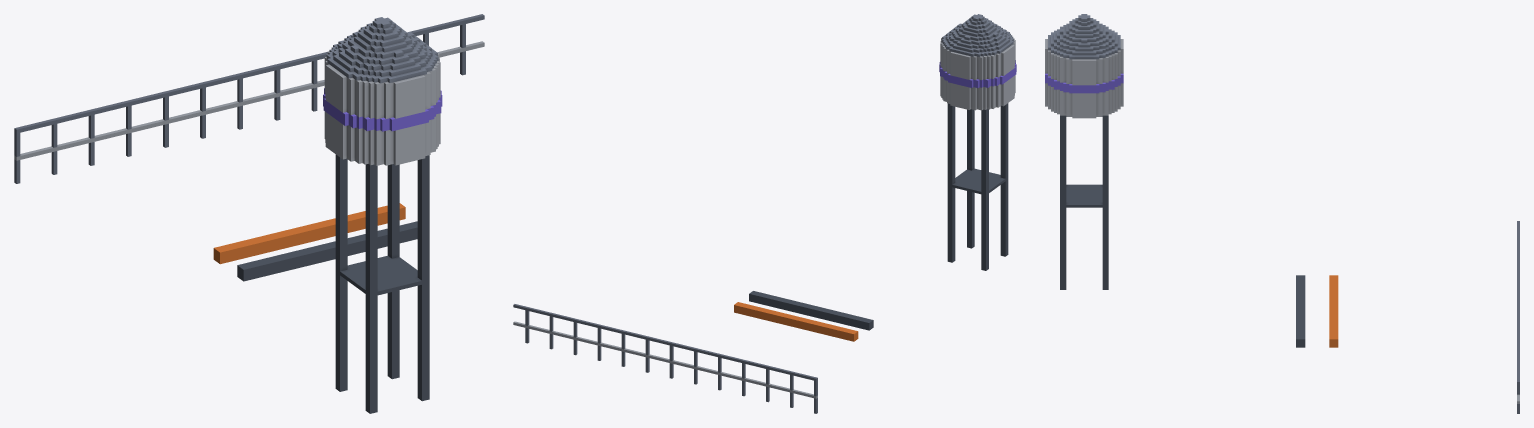
The model's file is pad_e5_l2.glb.
The picture shows the model from 3 angles, left to right: view 1: azimuth 30°, elevation 25°; view 2: azimuth 150°, elevation 25°; view 3: azimuth 270°, elevation 25°; orthographic projection. The views are drawn at different scales.
Visible parts, largest first — view 1: Base; view 2: Base; view 3: Base.
Part boxes in pixels (x1,y1,x2,y2): Base: (14, 14, 484, 413); Base: (513, 14, 1016, 413); Base: (1045, 14, 1519, 413).
Size of the model in its own units: 12.6 by 9.6 by 15.7.
